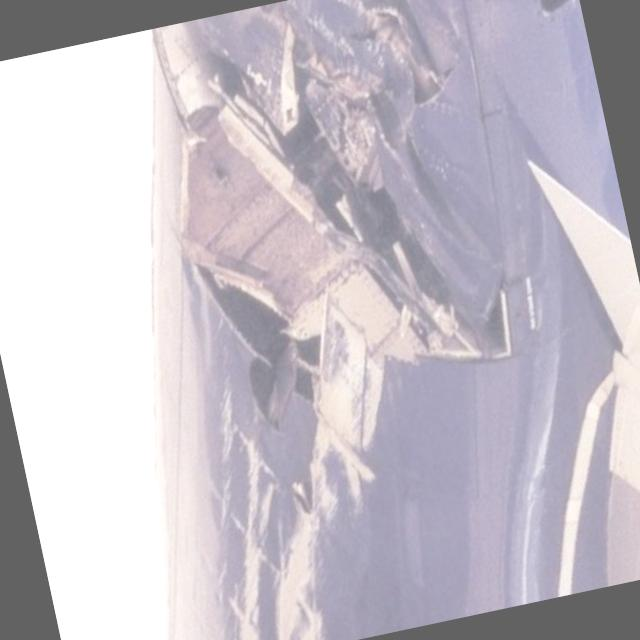crack: (140, 0, 527, 449)
